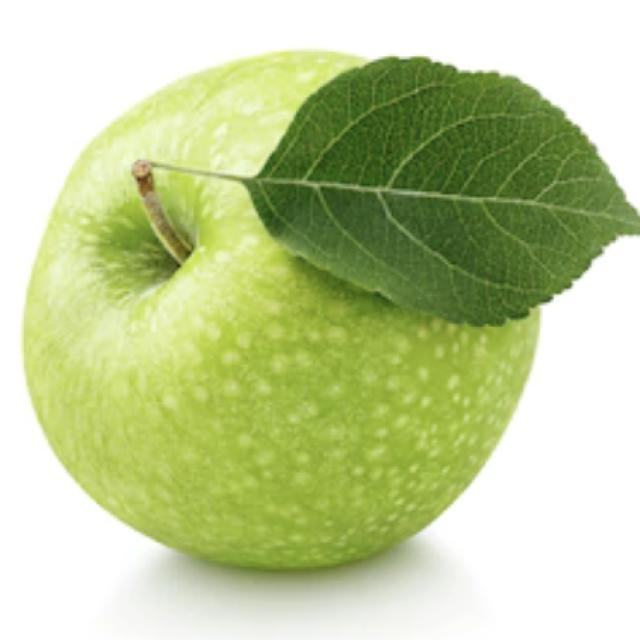Apple: (21, 47, 543, 572)
